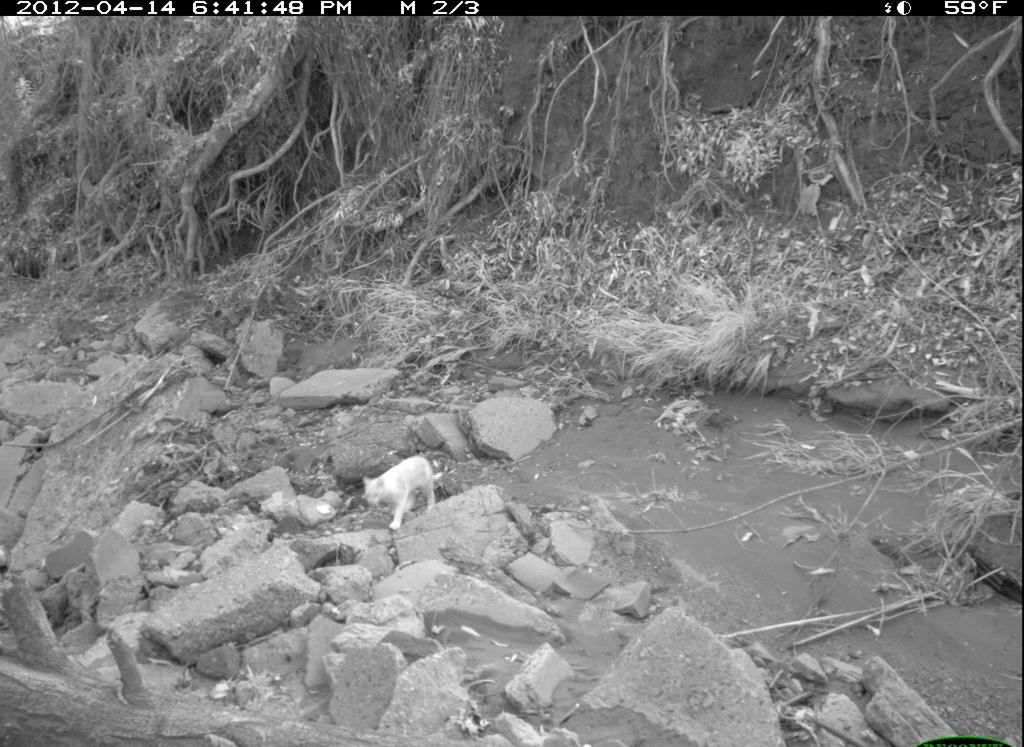cat: (351, 452, 463, 543)
